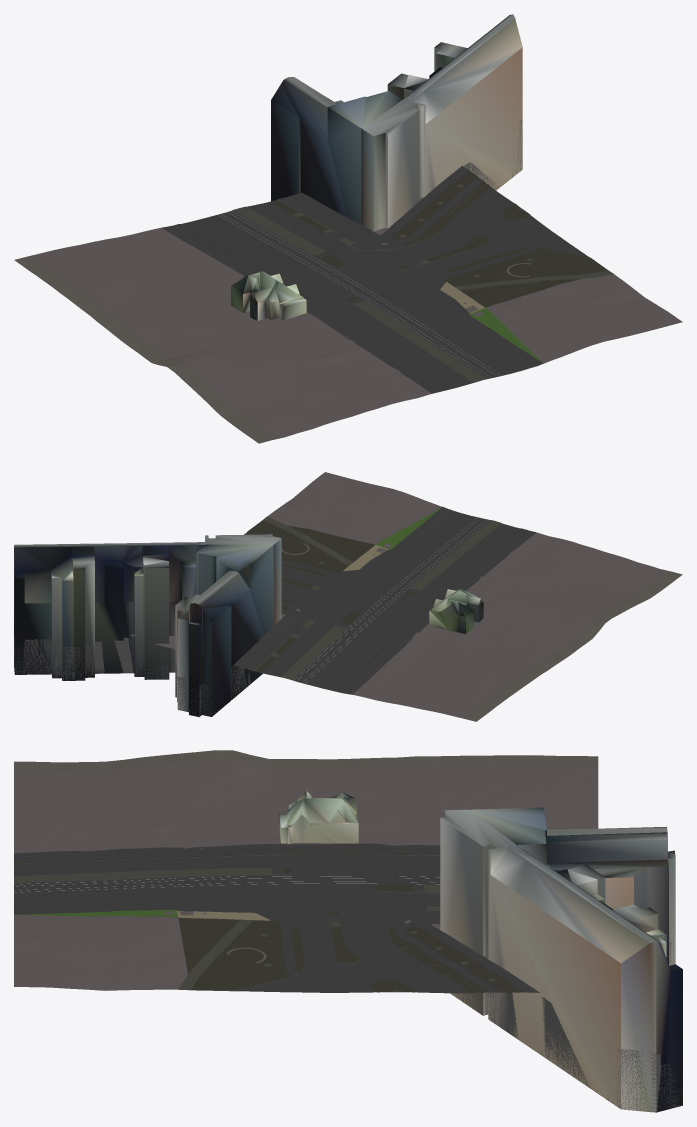
The picture shows the model from 3 angles, top to bottom: view 1: azimuth 30°, elevation 25°; view 2: azimuth 150°, elevation 25°; view 3: azimuth 270°, elevation 25°; orthographic projection. The views are drawn at different scales.
Parts seen in each view (by area): view 1: c_m14_p01; view 2: c_m14_p01; view 3: c_m14_p01.
Part boxes in pixels (<box>): c_m14_p01: <box>14,14,682,443</box>; c_m14_p01: <box>14,472,682,721</box>; c_m14_p01: <box>14,750,682,1112</box>.
Bounding box in the file's own units: 158 × 41.29 × 147.
